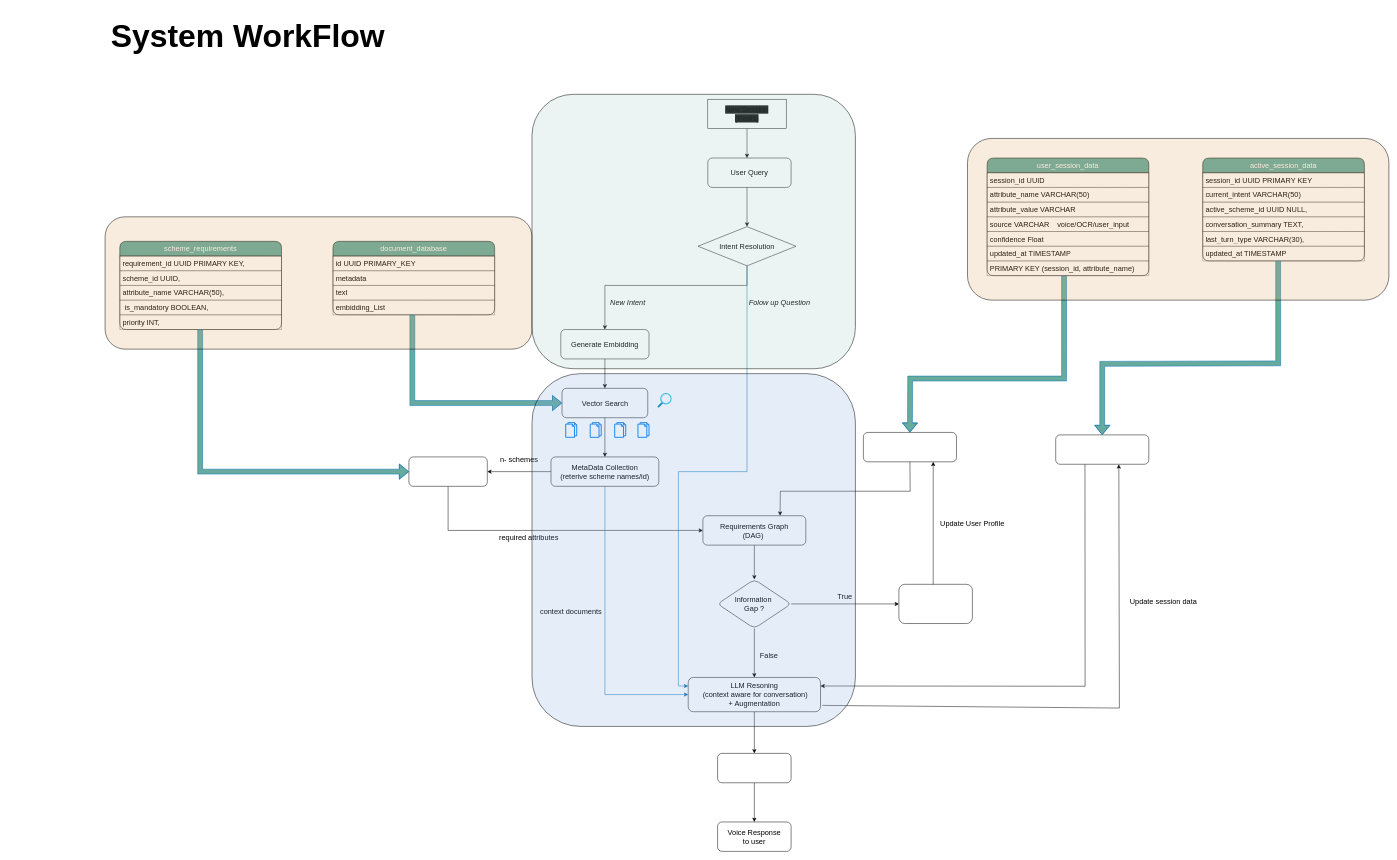
Some shapes in this 1397 by 860 pixel diagram are drawn without their labels. The shapes that lost their labels are listed below. From the top down, each one's centre as x and y in pixels, then its label:
At point 909,447: "User Session Data (Redis)".
At point 1102,449: "Active session Context".
At point 447,471: "Schemes Requirements Table".
At point 935,604: "Ask Follow up Questions".
At point 754,768: "Text to Speech Bhaishini TTS".
